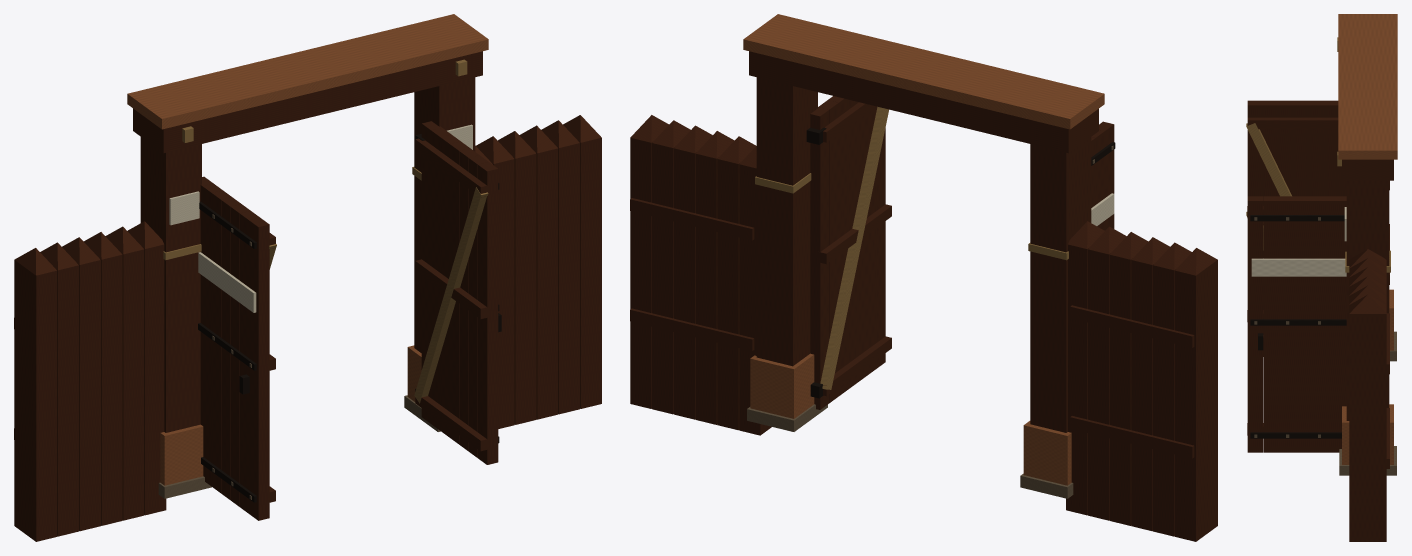
Rendered from Berber_PalisadeGate_Age2_Open.fbx.
3 renders of one model, left to right at view 1: azimuth 30°, elevation 25°; view 2: azimuth 150°, elevation 25°; view 3: azimuth 270°, elevation 25°, orthographic. The views are drawn at different scales.
Visible parts, largest first — view 1: lintel_earth_weather_cap, left_palisade_stake_5, left_palm_gatepost, mortised_palm_lintel, right_palisade_stake_3, left_palisade_stake_1, right_palisade_stake_2, left_palisade_stake_3, left_palisade_stake_4, left_palisade_stake_2, right_palisade_stake_5, right_palisade_stake_4 (+23 smaller); view 2: lintel_earth_weather_cap, right_palm_gatepost, left_palm_gatepost, left_palisade_stake_5, mortised_palm_lintel, left_palisade_stake_1, right_palisade_stake_1, right_palisade_stake_2, left_palisade_stake_2, left_palisade_stake_3, right_palisade_stake_5, right_palisade_stake_3 (+25 smaller); view 3: right_palisade_stake_5, lintel_earth_weather_cap, right_palm_gatepost, right_door_plank_6, right_door_plank_2, right_door_plank_3, right_door_plank_4, right_door_plank_5, right_door_plank_1, right_owner_leaf_stripe, left_door_plank_2, left_door_plank_3 (+21 smaller).
Boxes of the visible parts, left/top/right/bottom form: lintel_earth_weather_cap: left=127, top=14, right=488, bottom=129; left_palisade_stake_5: left=14, top=248, right=57, bottom=541; left_palm_gatepost: left=140, top=137, right=201, bottom=432; mortised_palm_lintel: left=133, top=51, right=482, bottom=153; right_palisade_stake_3: left=519, top=125, right=558, bottom=419; left_palisade_stake_1: left=105, top=226, right=144, bottom=520; right_palisade_stake_2: left=497, top=131, right=536, bottom=424; left_palisade_stake_3: left=62, top=237, right=100, bottom=531; left_palisade_stake_4: left=40, top=242, right=78, bottom=536; left_palisade_stake_2: left=84, top=232, right=122, bottom=525; right_palisade_stake_5: left=563, top=115, right=601, bottom=408; right_palisade_stake_4: left=541, top=120, right=579, bottom=414; lintel_earth_weather_cap: left=743, top=14, right=1104, bottom=129; right_palm_gatepost: left=756, top=77, right=817, bottom=366; left_palm_gatepost: left=1030, top=137, right=1091, bottom=432; left_palisade_stake_5: left=1175, top=248, right=1217, bottom=541; mortised_palm_lintel: left=749, top=51, right=1098, bottom=153; left_palisade_stake_1: left=1087, top=226, right=1126, bottom=520; right_palisade_stake_1: left=717, top=136, right=755, bottom=430; right_palisade_stake_2: left=695, top=131, right=734, bottom=424; left_palisade_stake_2: left=1109, top=232, right=1148, bottom=525; left_palisade_stake_3: left=1131, top=237, right=1169, bottom=531; right_palisade_stake_5: left=630, top=115, right=668, bottom=408; right_palisade_stake_3: left=674, top=125, right=712, bottom=419; right_palisade_stake_5: left=1349, top=294, right=1386, bottom=541; lintel_earth_weather_cap: left=1338, top=14, right=1397, bottom=159; right_palm_gatepost: left=1346, top=180, right=1389, bottom=420; right_door_plank_6: left=1247, top=196, right=1263, bottom=452; right_door_plank_2: left=1311, top=196, right=1327, bottom=452; right_door_plank_3: left=1295, top=196, right=1311, bottom=452; right_door_plank_4: left=1279, top=196, right=1295, bottom=452; right_door_plank_5: left=1263, top=196, right=1279, bottom=452; right_door_plank_1: left=1327, top=196, right=1343, bottom=452; right_owner_leaf_stripe: left=1251, top=258, right=1346, bottom=276; left_door_plank_2: left=1311, top=100, right=1327, bottom=196; left_door_plank_3: left=1295, top=100, right=1311, bottom=196.
Bounding box in the file's own units: 1018 × 685 × 275.
Materials: 6 (6 with a texture image).
